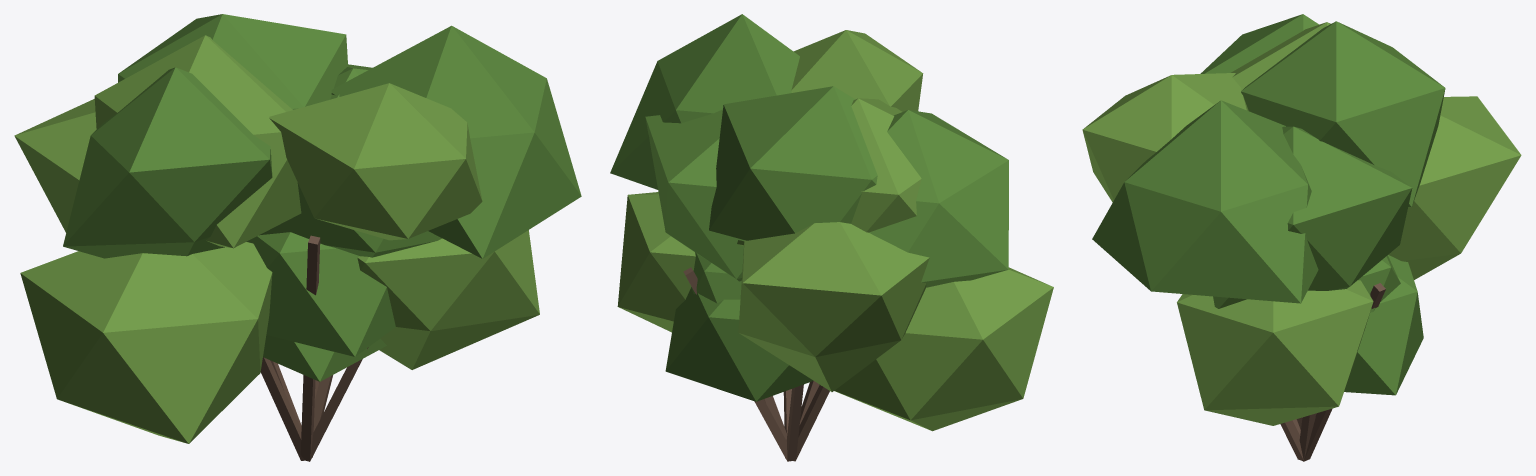
File: hassel_2.glb
The picture shows the model from 3 angles, left to right: view 1: azimuth 30°, elevation 25°; view 2: azimuth 150°, elevation 25°; view 3: azimuth 270°, elevation 25°; orthographic projection. The views are drawn at different scales.
Parts seen in each view (by area): view 1: hassel_2; view 2: hassel_2; view 3: hassel_2.
Part boxes in pixels (box(x1,y1,x2,y2)): hassel_2: box(14, 14, 581, 461); hassel_2: box(610, 14, 1053, 461); hassel_2: box(1082, 14, 1521, 461).
Size of the model in its own units: 4.48 by 4.18 by 4.06.
